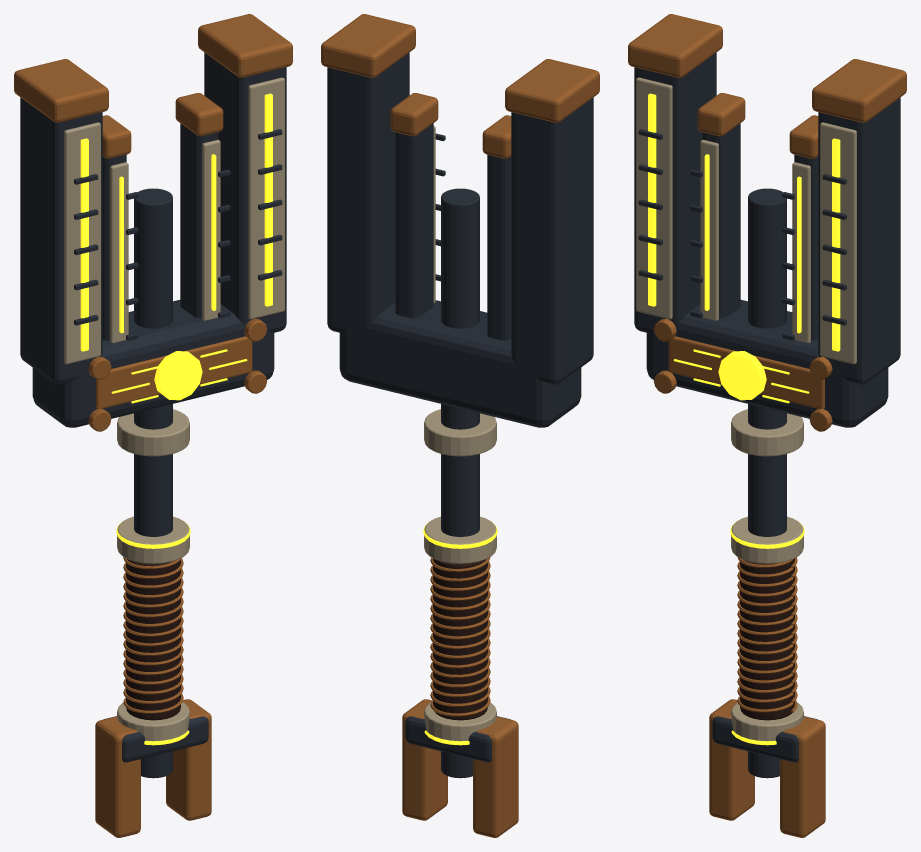
Rendered from Double_Headed_Tuning_Fork.fbx.
3 views of the same model, side by side, from view 1: azimuth 30°, elevation 25°; view 2: azimuth 150°, elevation 25°; view 3: azimuth 330°, elevation 25° (orthographic).
Visible parts, largest first — view 1: TuningFork_LOD0, TuningFork_Resonance; view 2: TuningFork_LOD0, TuningFork_Resonance; view 3: TuningFork_LOD0, TuningFork_Resonance.
Boxes of the visible parts, <box> form: TuningFork_LOD0: <box>14,14,292,837</box>; TuningFork_Resonance: <box>80,93,272,745</box>; TuningFork_LOD0: <box>321,14,599,837</box>; TuningFork_Resonance: <box>423,522,497,745</box>; TuningFork_LOD0: <box>628,14,906,837</box>; TuningFork_Resonance: <box>648,93,840,745</box>.
Size of what is drawn, in the model's own units: 0.6768 by 2.06 by 0.2395.
